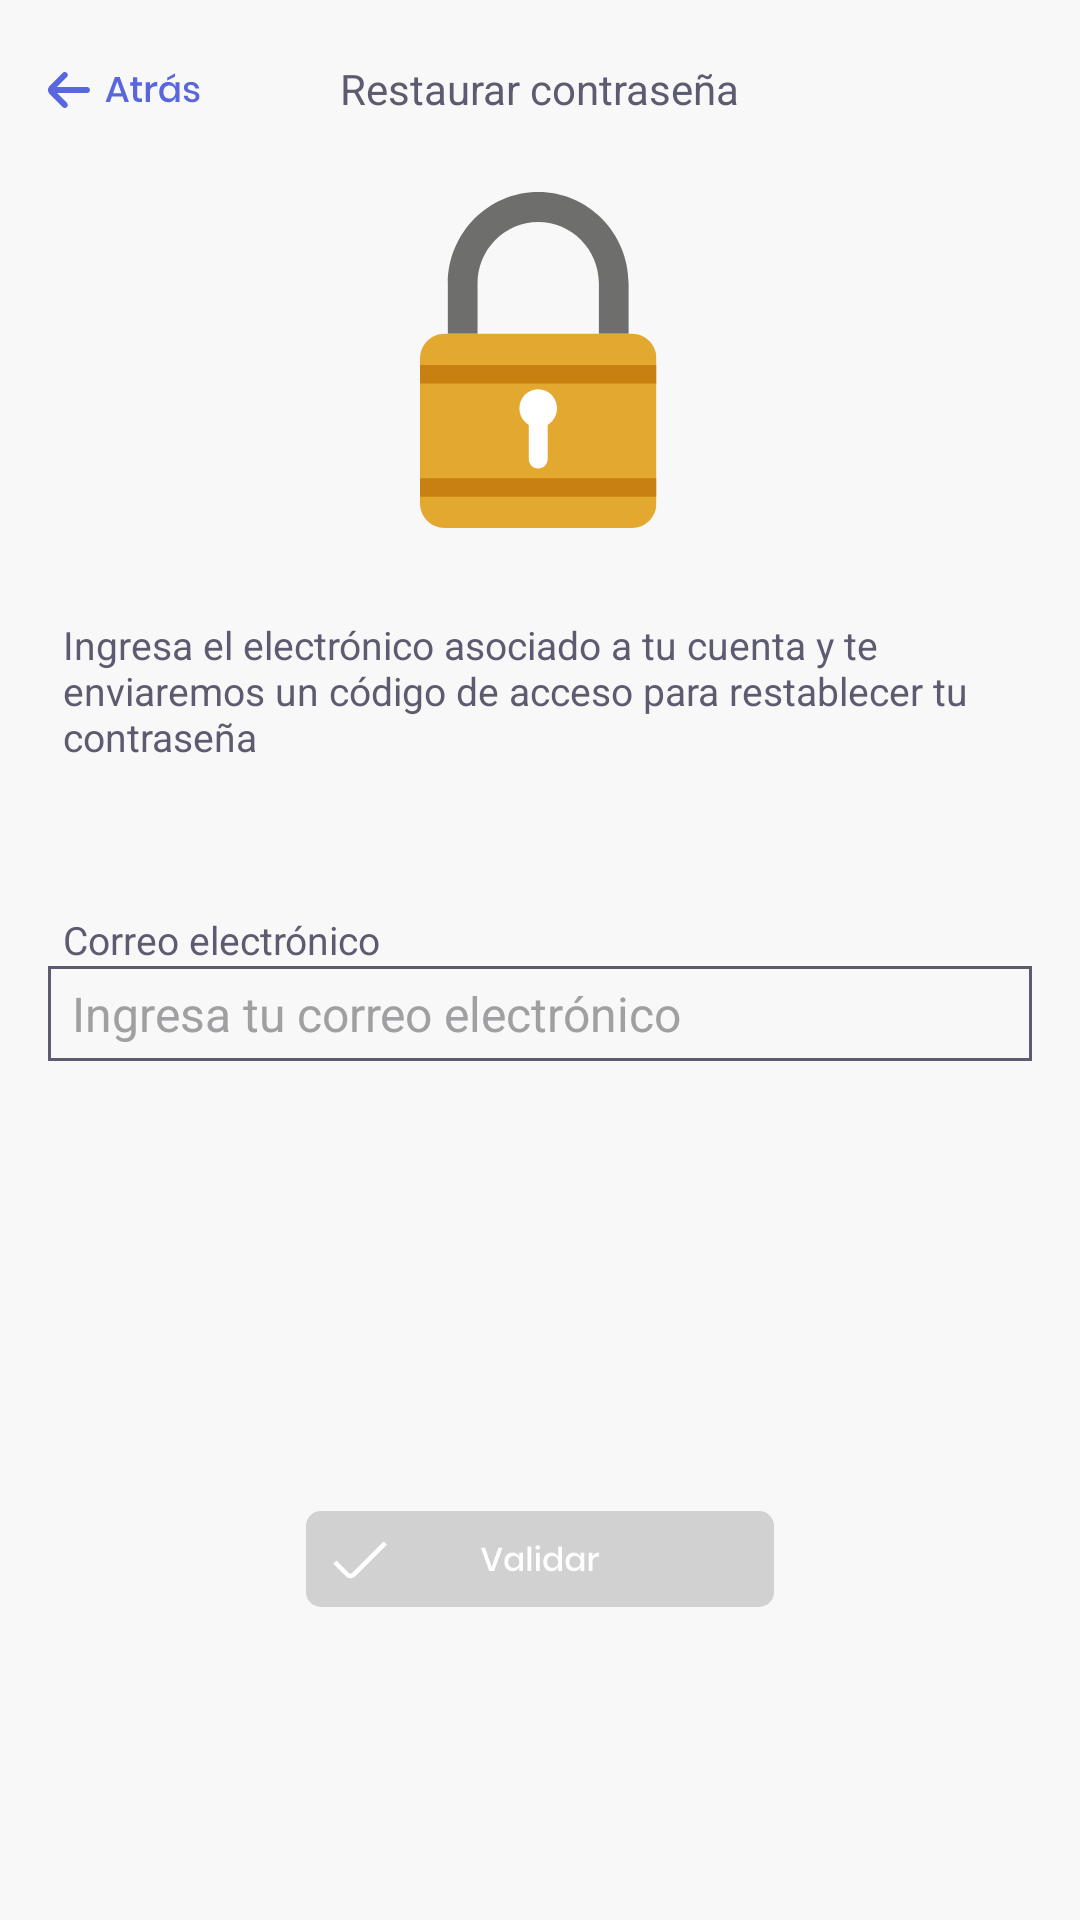

Locate icon controls on the screen. Image size 1080w x 1920h, boxes as (x1, y1, x2, y2).
candado: (420, 192, 657, 528)
